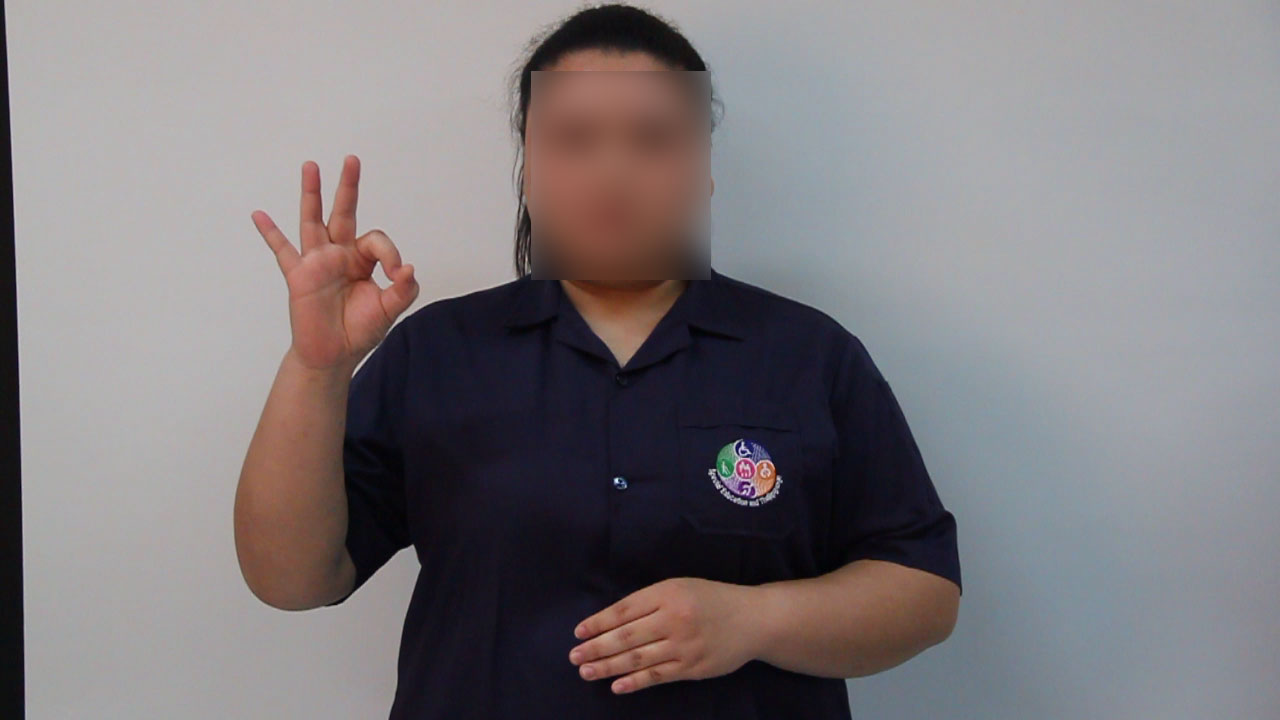for: (247, 134, 426, 371)
